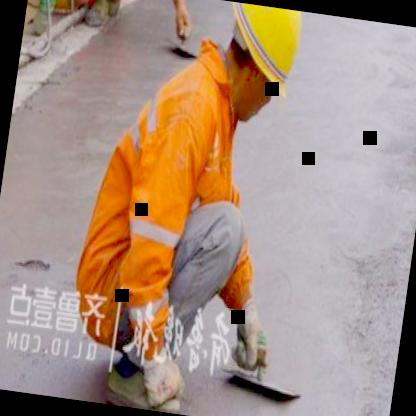helmet: (207, 4, 317, 136)
